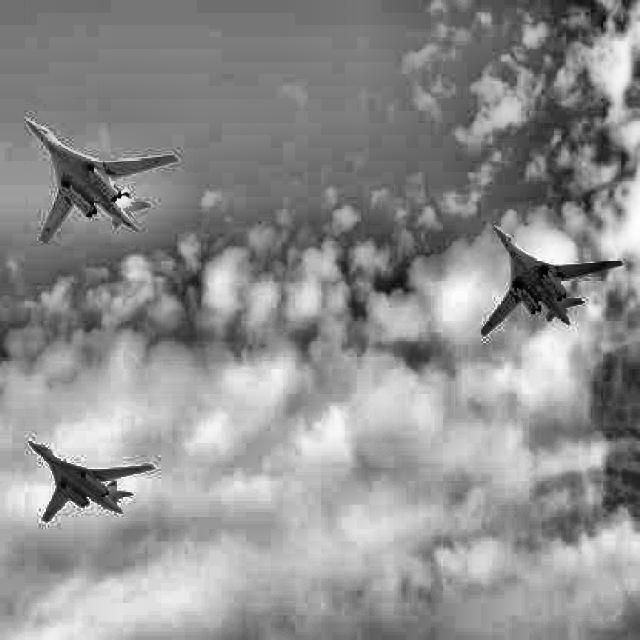Tu160: (25, 117, 177, 245), (480, 226, 622, 337), (29, 440, 154, 523)
